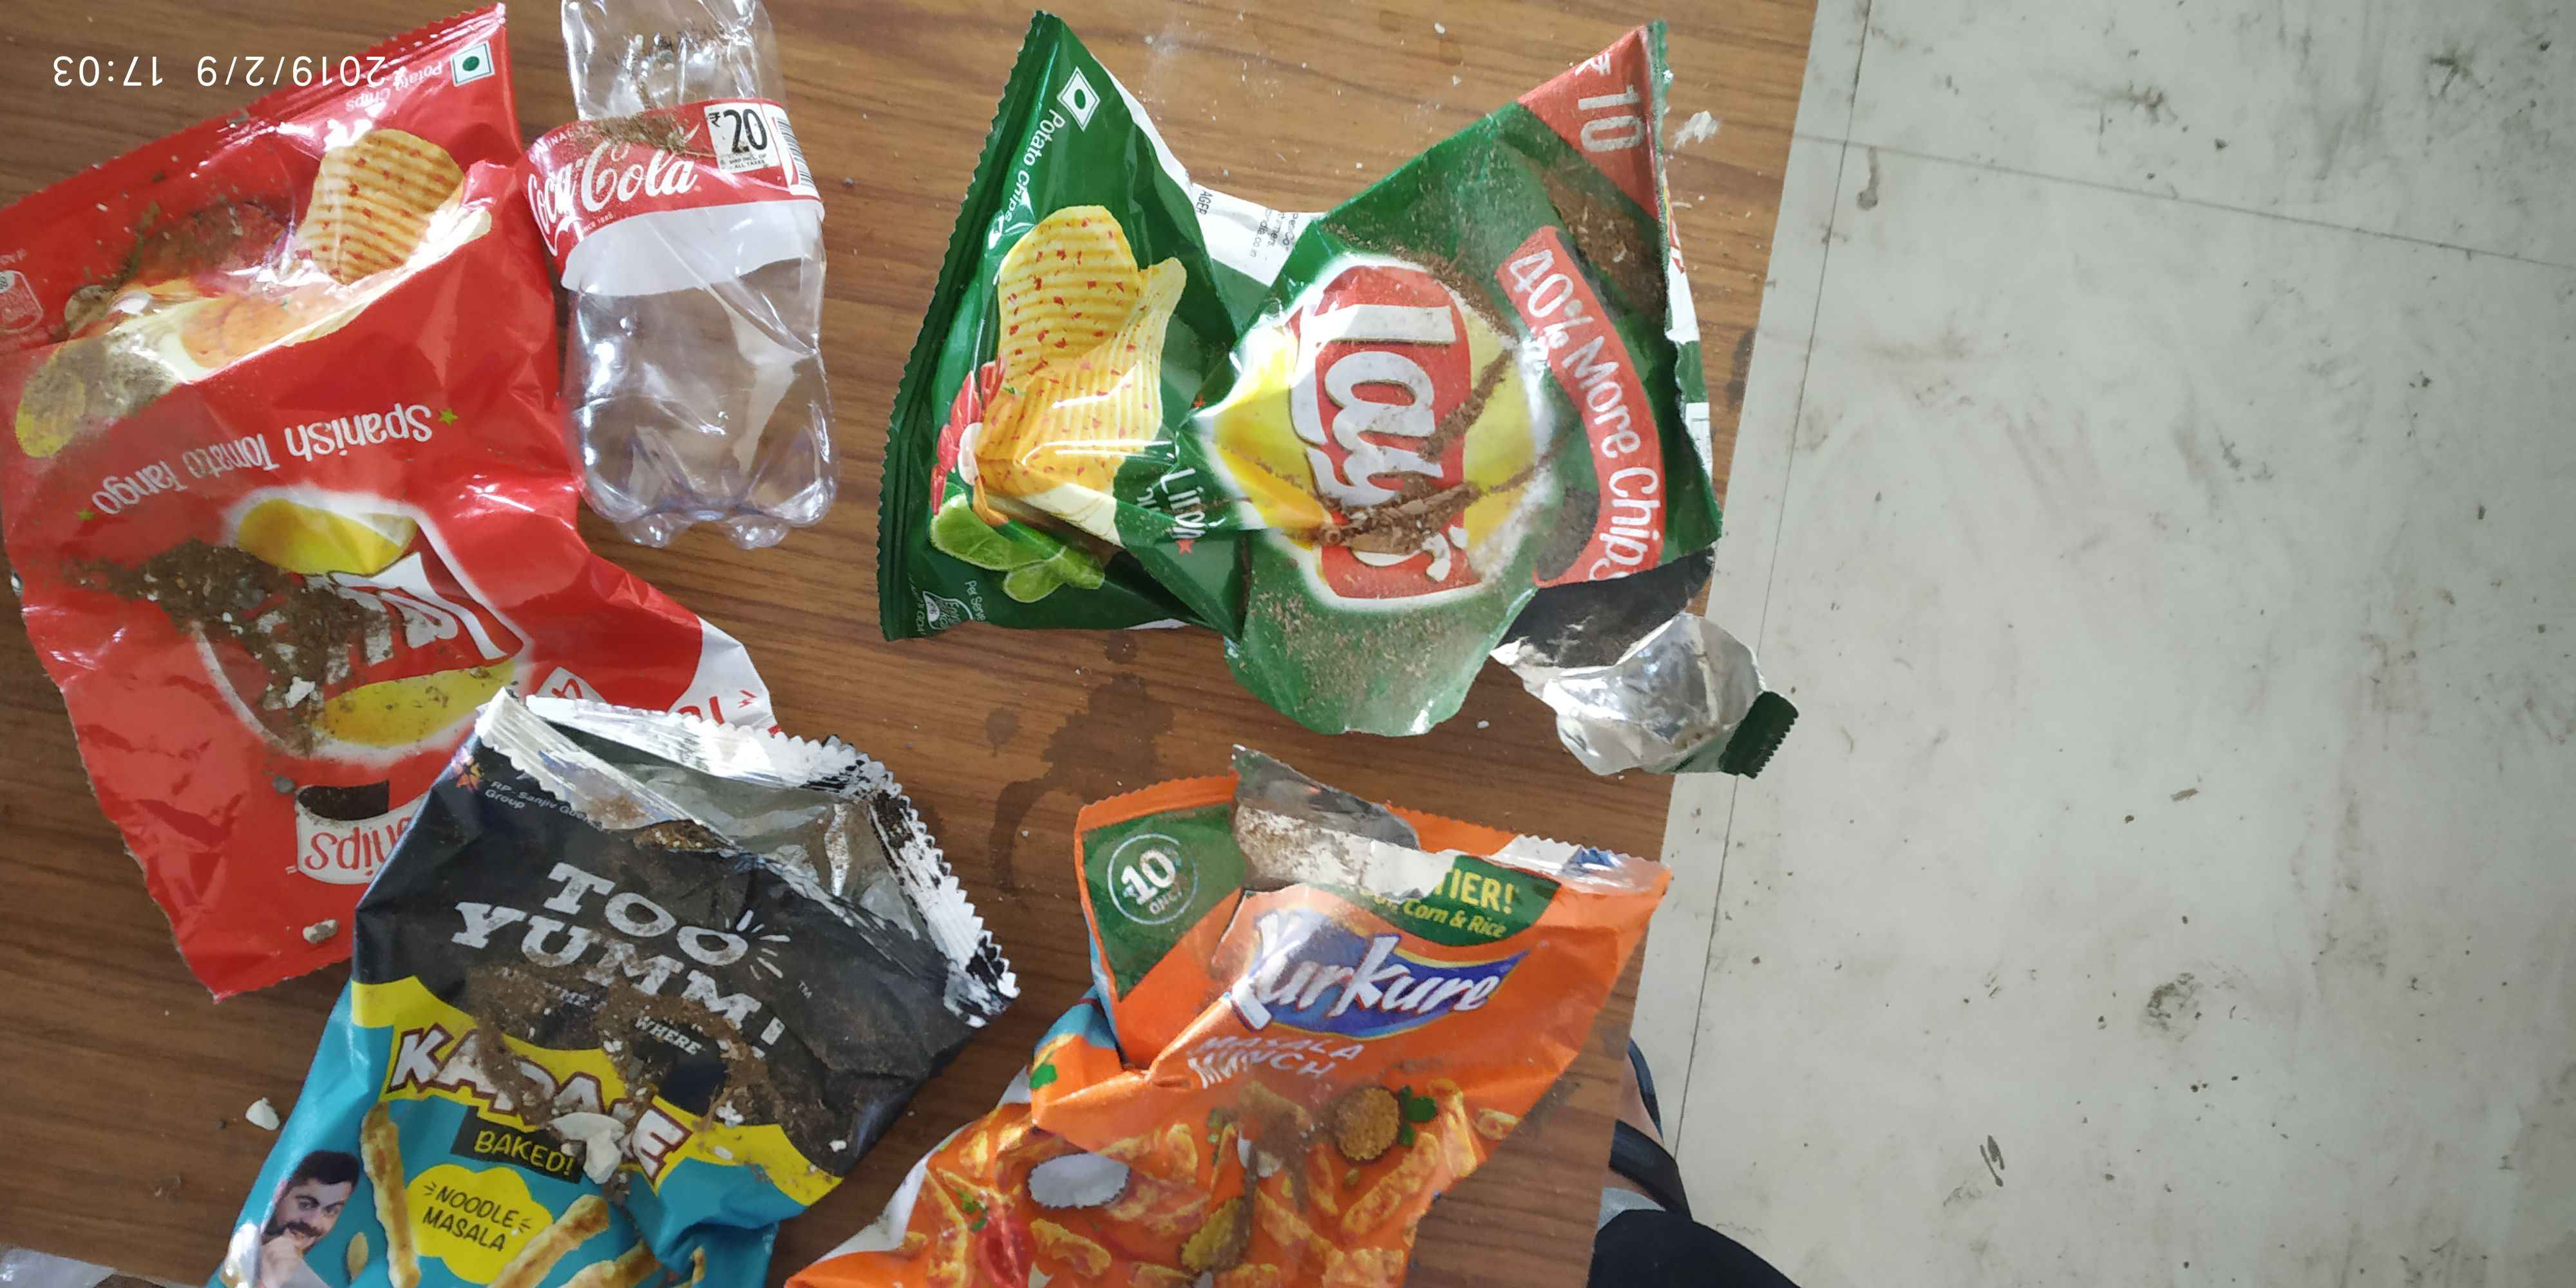Coca-Cola: (495, 138, 726, 217)
Lays: (1240, 256, 1548, 605), (202, 475, 544, 710)
kurkure: (1203, 856, 1539, 1061)
tooyumm: (453, 835, 838, 1088)
